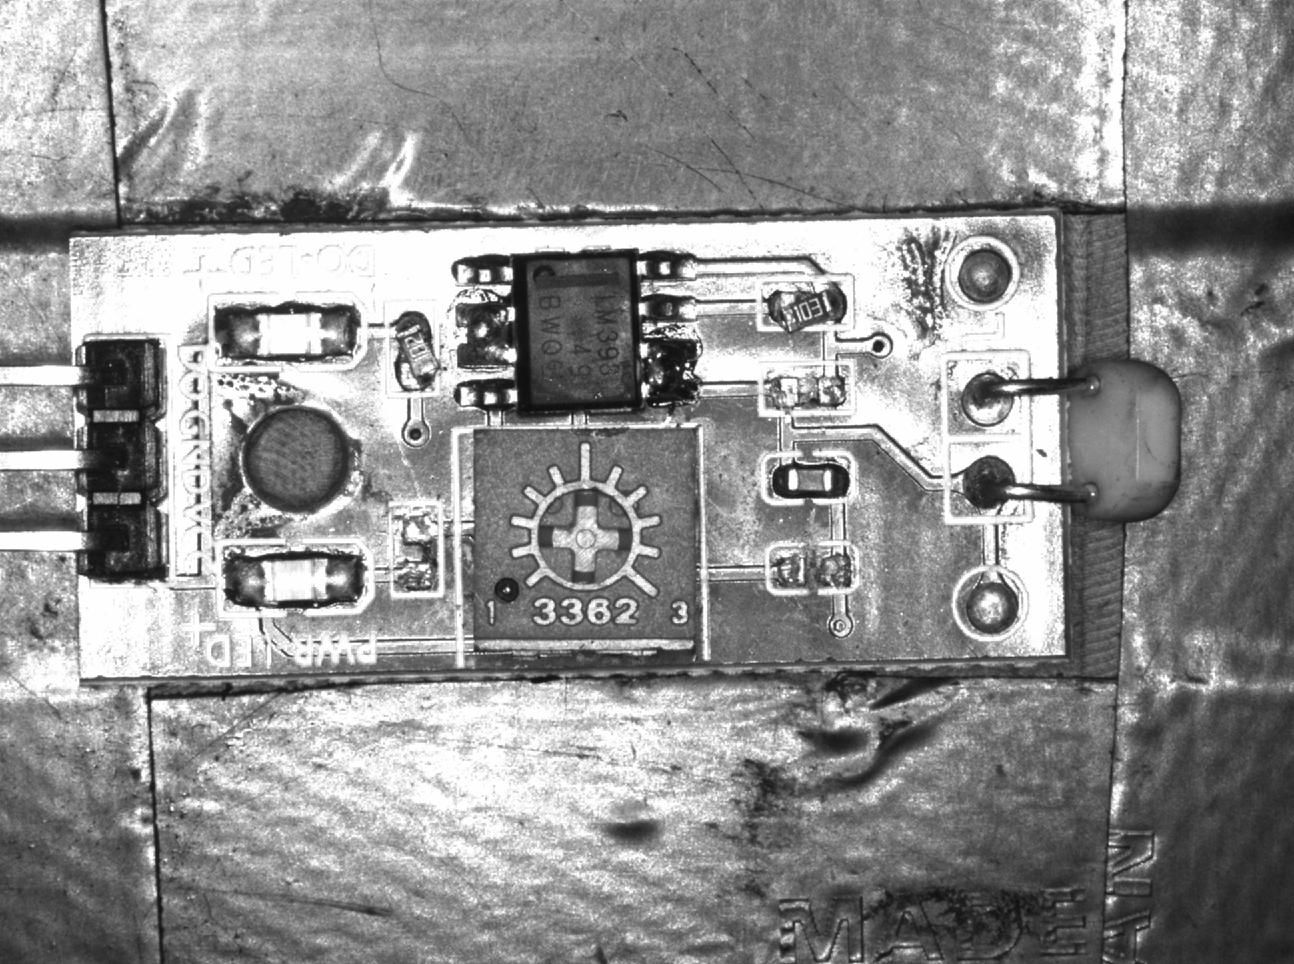bridge: (455, 301, 516, 369), (641, 336, 703, 403)
lifted: (385, 303, 441, 395), (759, 279, 855, 333)
miss: (389, 500, 443, 597), (757, 361, 853, 414), (765, 543, 860, 595)
ok: (762, 452, 857, 506)
